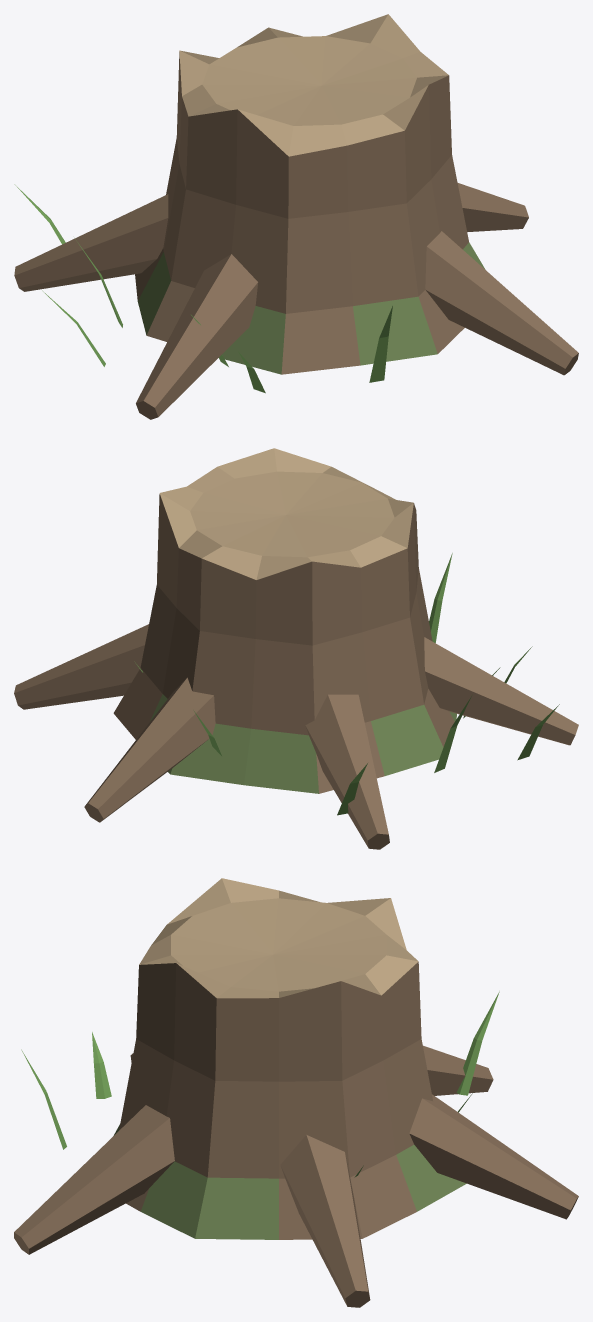
The model's file is stump.glb.
The picture shows the model from 3 angles, top to bottom: view 1: azimuth 30°, elevation 25°; view 2: azimuth 150°, elevation 25°; view 3: azimuth 270°, elevation 25°; orthographic projection. The views are drawn at different scales.
Parts seen in each view (by area): view 1: Body; view 2: Body; view 3: Body.
Part boxes in pixels (x1,y1,x2,y2): Body: (14,14,578,419); Body: (14,448,578,849); Body: (14,878,578,1307).
Size of the model in its own units: 1.13 by 0.52 by 1.02.
